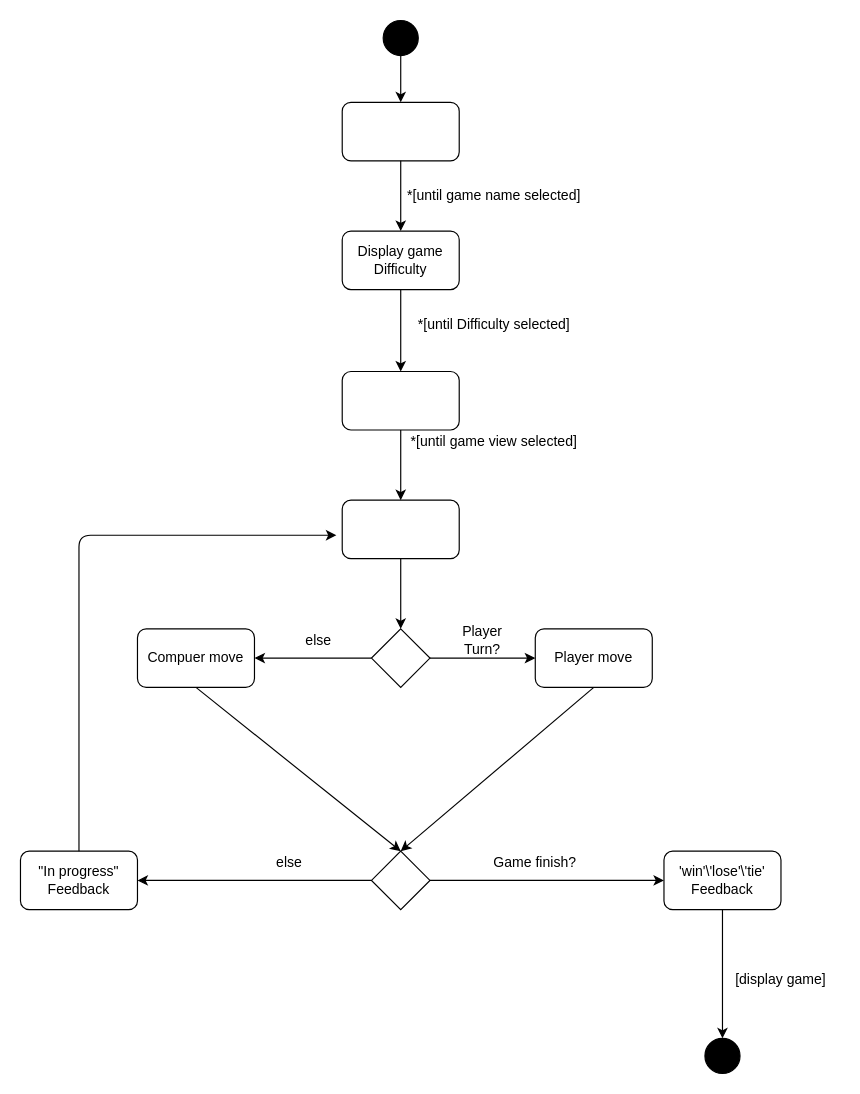
Image size: 860x1094. Some labels were removed from this diagram. Here are the shapes that lost their labels. From the top down, the box of each, then its label:
(341, 101, 459, 161): Display game options
(341, 370, 459, 430): Display game view options
(341, 499, 459, 559): Display Game
